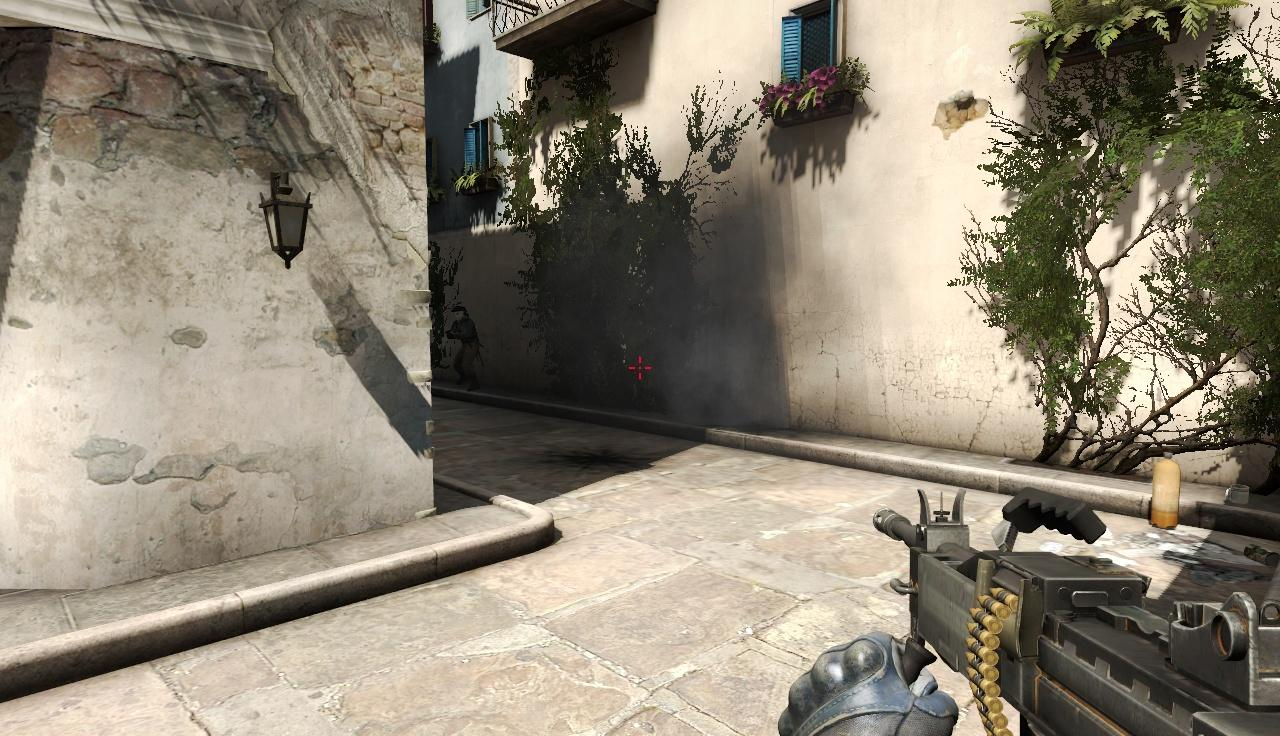rifle: (859, 492, 1280, 736)
tt: (450, 305, 479, 393)
tthead: (452, 306, 468, 323)
